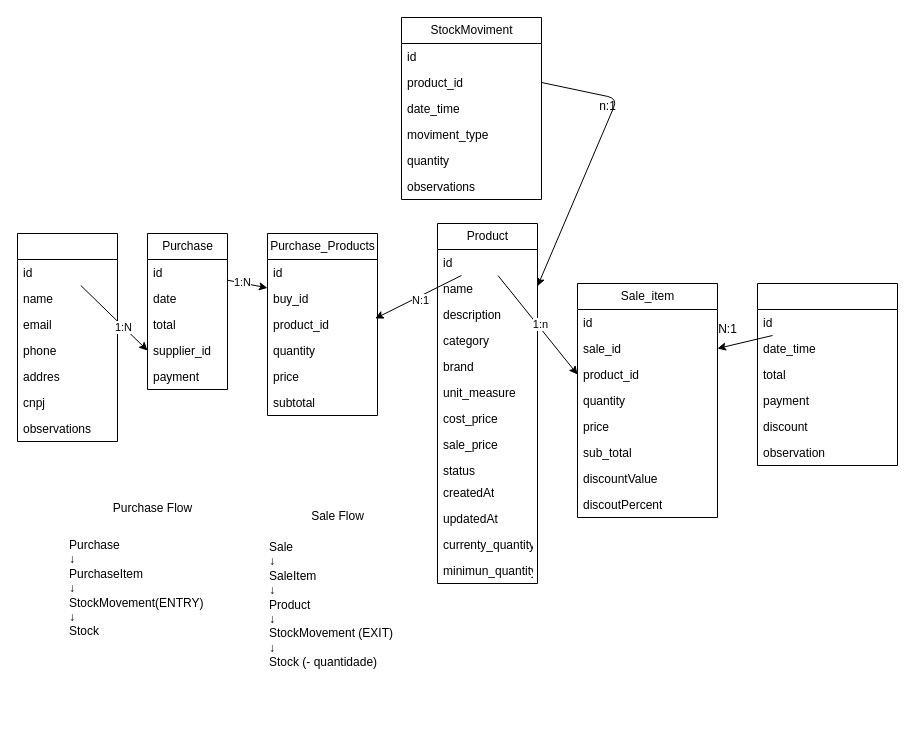
This 915x729 diagram has some shape labels left out. The shapes that lost their labels are listed below. From the top down, each one's box as (x1, y1, x2, y2) in pixels, then its label:
(16, 232, 118, 442): Supllier
(756, 282, 898, 466): Sale
